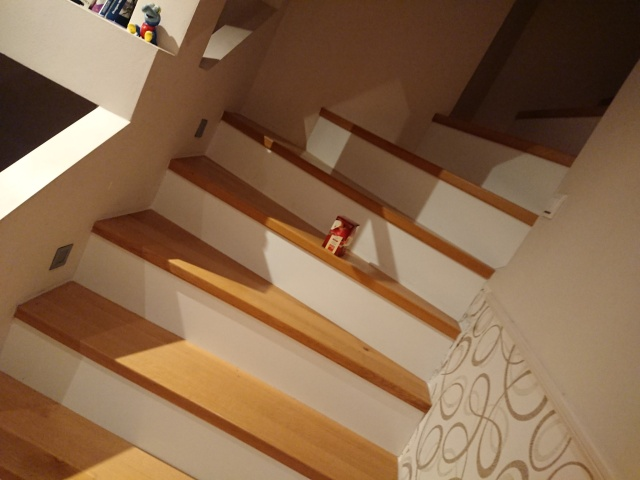Franck Apple Cinnamon Tea 60g: (318, 212, 363, 260)
